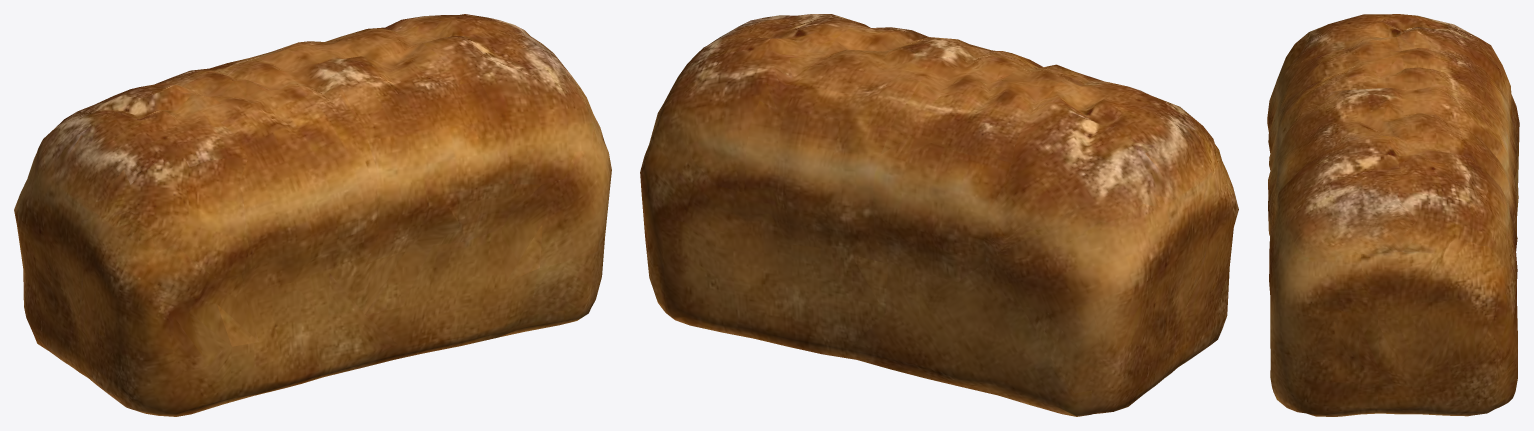
Rendered from bread.glb.
3 renders of one model, left to right at view 1: azimuth 30°, elevation 25°; view 2: azimuth 150°, elevation 25°; view 3: azimuth 270°, elevation 25°, orthographic. The views are drawn at different scales.
Parts seen in each view (by area): view 1: bread; view 2: bread; view 3: bread.
Boxes of the visible parts, x1,y1,x2,y2 form: bread: (14, 14, 611, 416); bread: (640, 14, 1238, 416); bread: (1267, 14, 1519, 416).
Size of the model in its own units: 0.28 by 0.1427 by 0.1378.
Materials: 1 (1 with a texture image).
